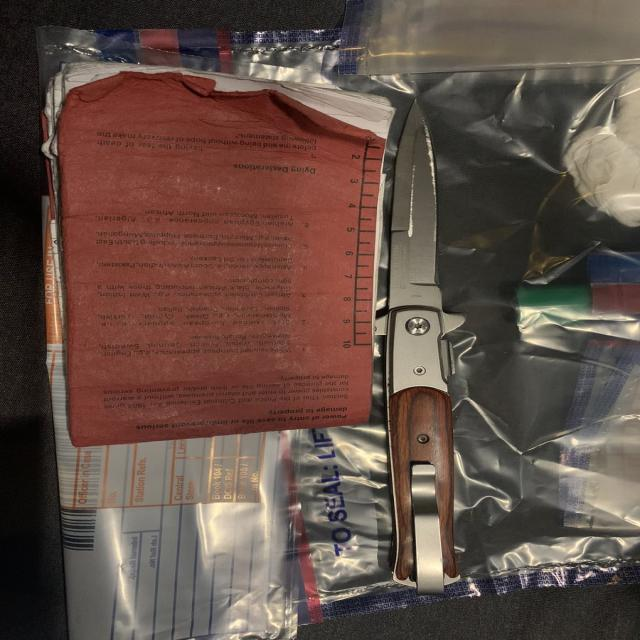Sharp-Object: (386, 102, 467, 596)
